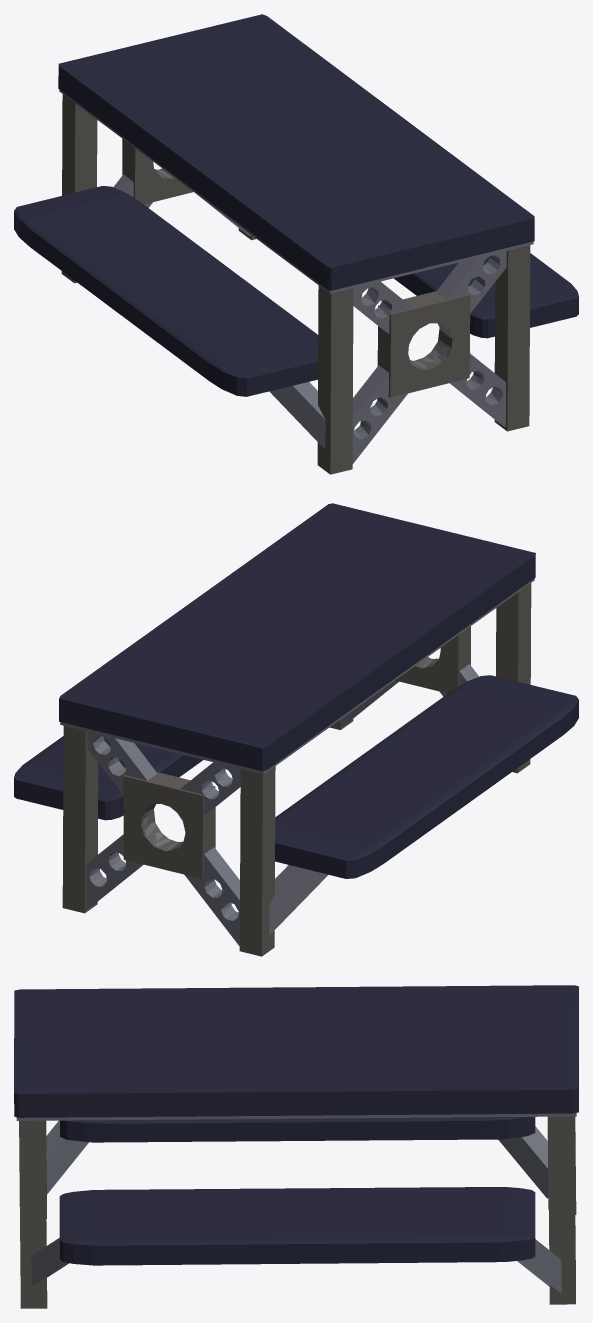
Rendered from picnic_bench.fbx.
3 views of the same model, one above another, from view 1: azimuth 30°, elevation 25°; view 2: azimuth 150°, elevation 25°; view 3: azimuth 270°, elevation 25° (orthographic). The views are drawn at different scales.
Visible parts, largest first — view 1: bench; view 2: bench; view 3: bench.
Boxes of the visible parts, x1,y1,x2,y2 form: bench: (14, 14, 578, 474); bench: (14, 503, 578, 956); bench: (14, 985, 578, 1308).
Size of the model in its own units: 184 by 107 by 247.
